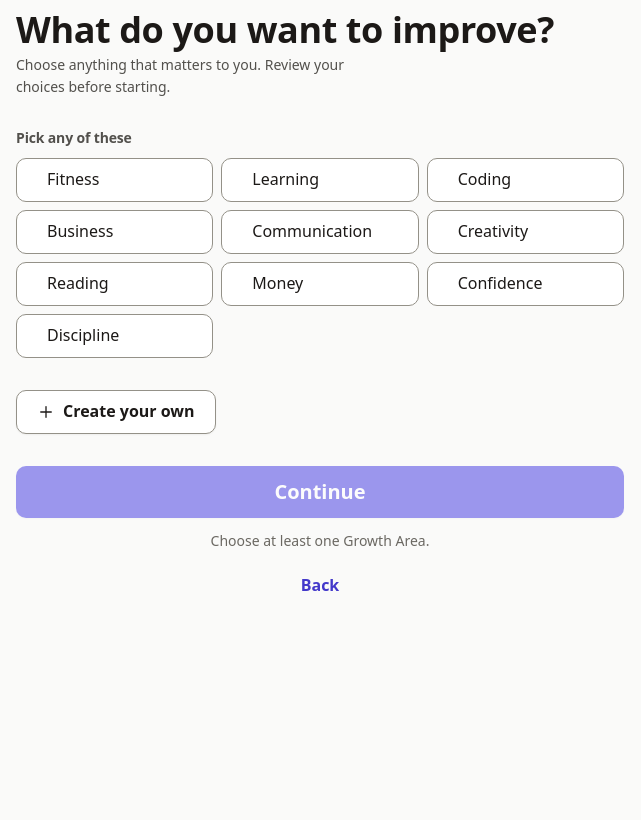
Scenario: creating your own growth area › asks for nothing but a name
Click the button "Create your own": (116,412) 16,390 -> 216,434
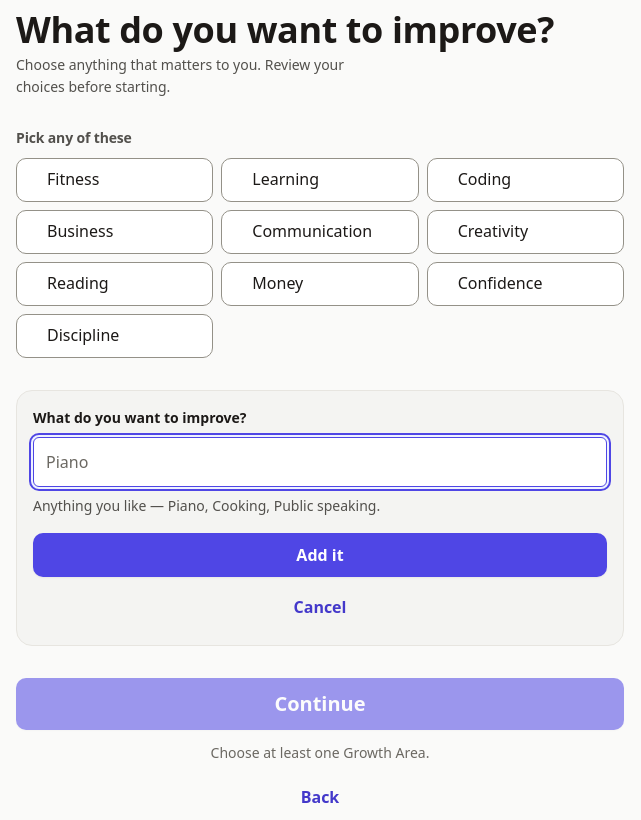
expect the number of fields is 1: met, box 33,436 -> 607,487
